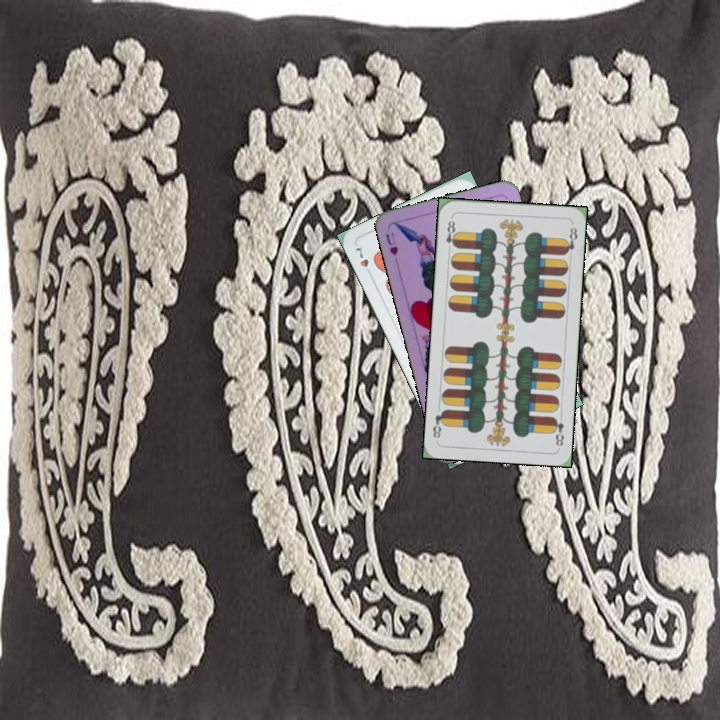E8: (442, 214, 460, 254), (548, 413, 567, 449)
H7: (351, 243, 375, 280)
HU: (381, 228, 401, 258)
